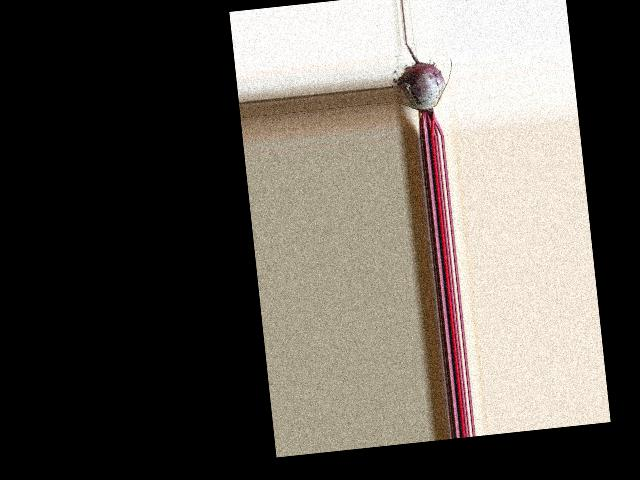beet: (393, 38, 459, 138)
